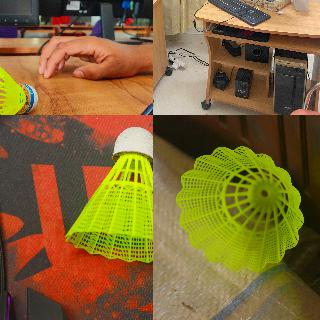shuttlecock: (175, 146, 302, 272), (65, 126, 152, 263), (0, 52, 36, 114)
